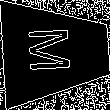M_E: (29, 28, 82, 77)
